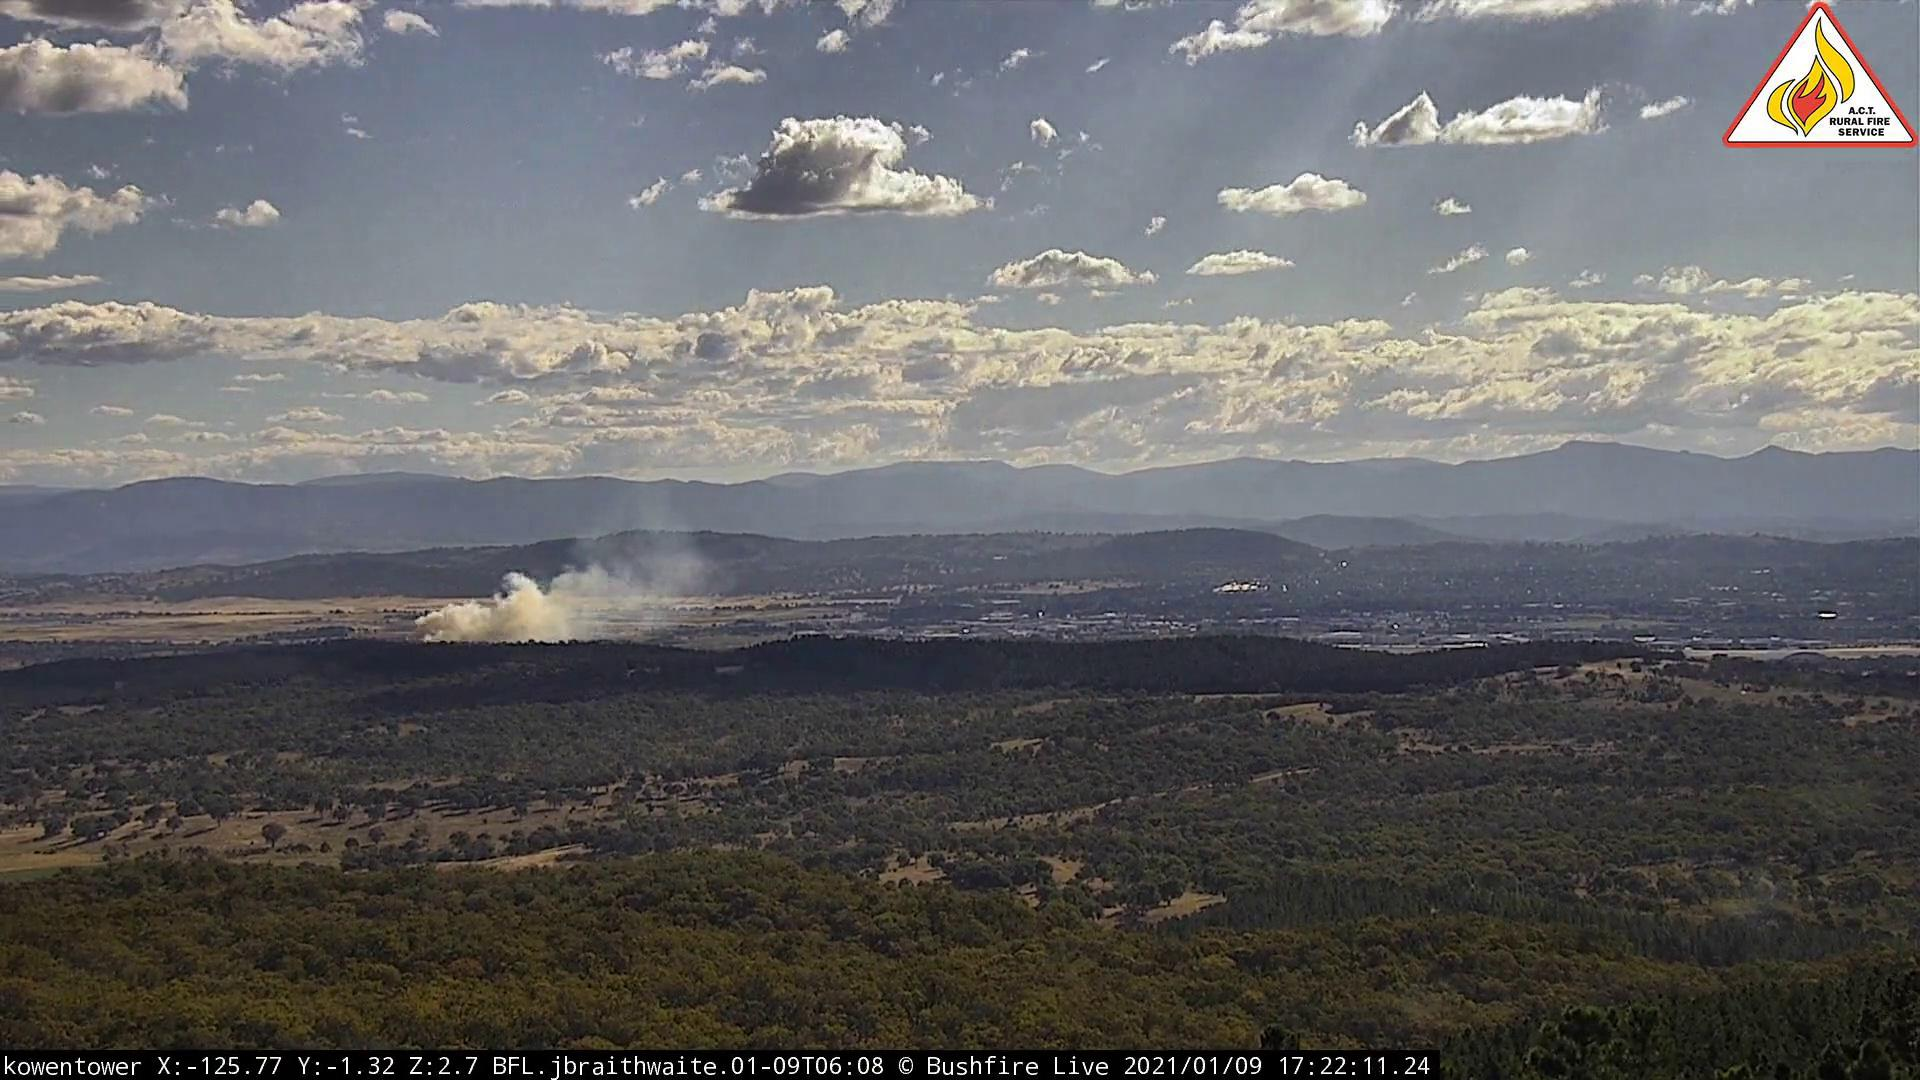Smoke: (407, 502, 727, 653)
